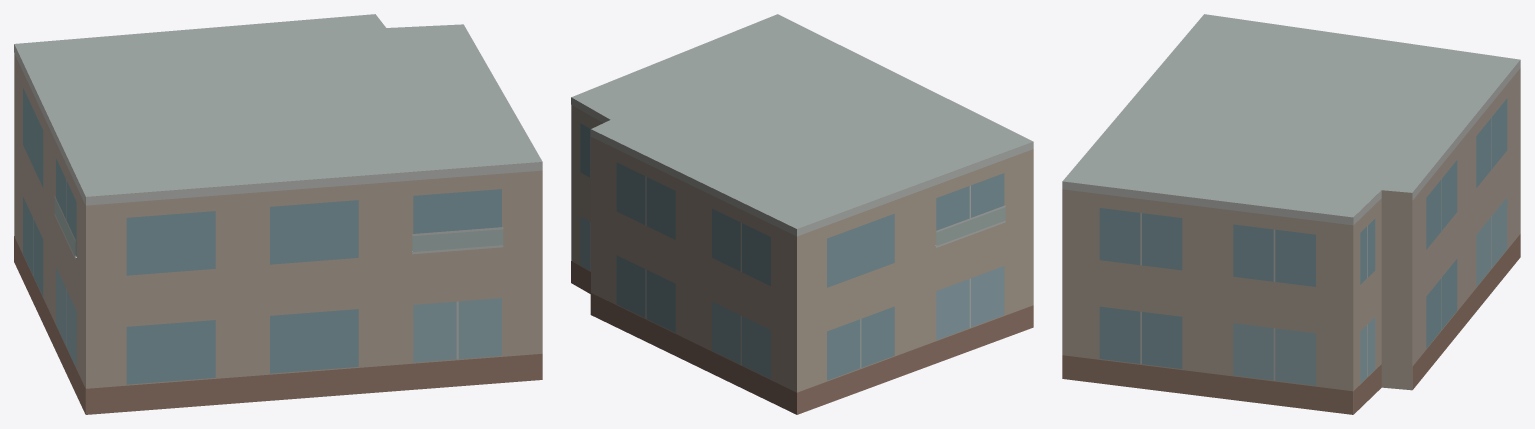
Rendered from survey-upis-32695580.glb.
3 views of the same model, side by side, from view 1: azimuth 30°, elevation 25°; view 2: azimuth 150°, elevation 25°; view 3: azimuth 270°, elevation 25° (orthographic). The views are drawn at different scales.
Parts seen in each view (by area): view 1: survey-upis-32695580.tmp; view 2: survey-upis-32695580.tmp; view 3: survey-upis-32695580.tmp.
Boxes of the visible parts, x1=… form: survey-upis-32695580.tmp: x1=14, y1=14, x2=542, y2=414; survey-upis-32695580.tmp: x1=571, y1=14, x2=1033, y2=414; survey-upis-32695580.tmp: x1=1062, y1=14, x2=1520, y2=414.
Size of the model in its own units: 13.49 by 6.1 by 12.84.
